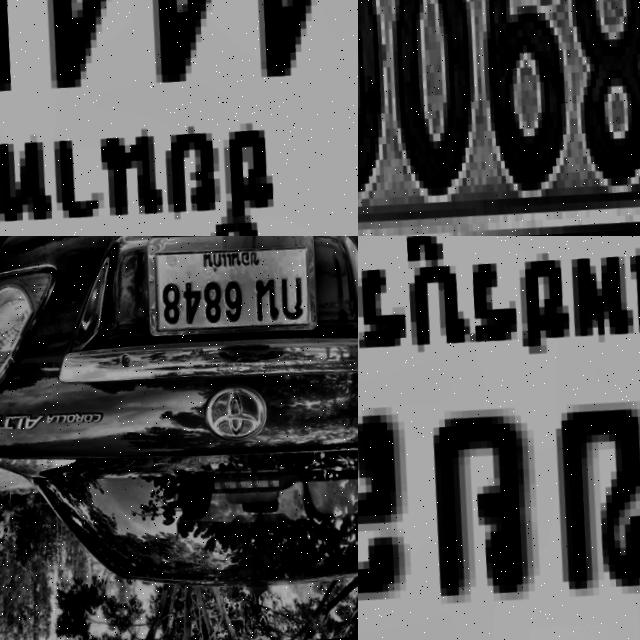license-plate: (358, 236, 640, 640), (0, 0, 358, 236), (358, 0, 640, 236), (137, 236, 317, 352)
